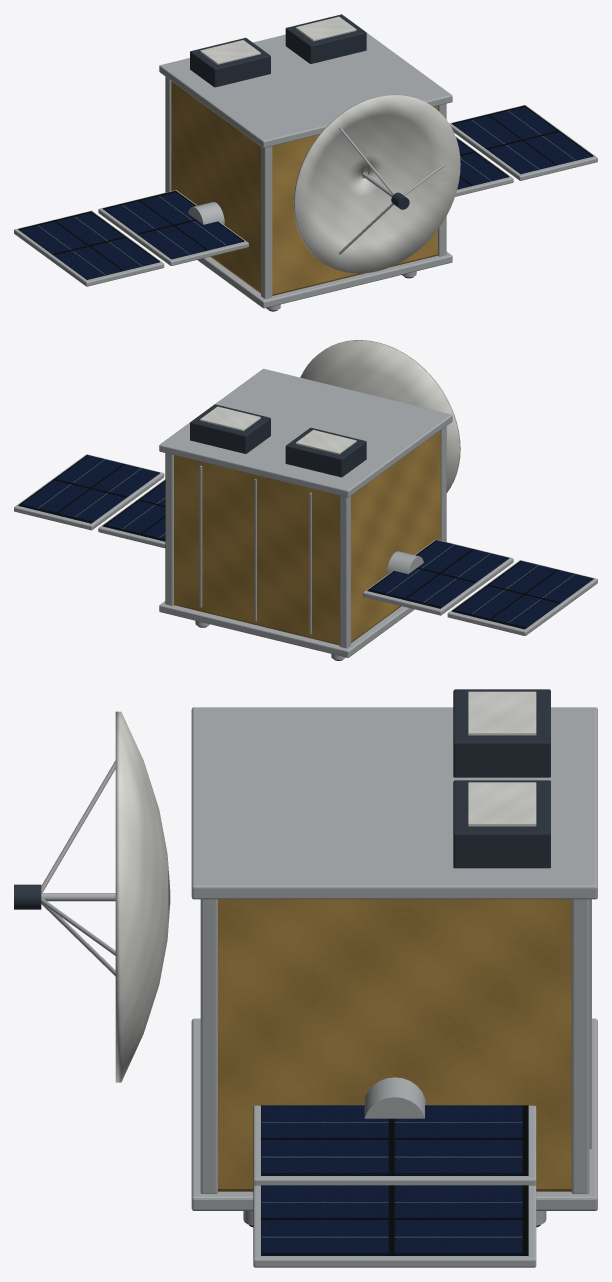
Rendered from interplanetary_probe_base.glb.
3 renders of one model, top to bottom at view 1: azimuth 30°, elevation 25°; view 2: azimuth 150°, elevation 25°; view 3: azimuth 270°, elevation 25°, orthographic. The views are drawn at different scales.
Parts seen in each view (by area): view 1: HighGain_Reflector, Probe_Bus, Probe_Deck.001, Solar_Face.003, Solar_Face.001, Solar_Face, Probe_Deck, Instrument_DeckBox.001, Instrument_DeckBox, Probe_CornerRail, Solar_Frame.003, Solar_Face.002 (+8 smaller); view 2: Probe_Bus, Probe_Deck.001, HighGain_Reflector, Solar_Face.001, Solar_Face.003, Solar_Face, Probe_Deck, Instrument_DeckBox, Instrument_DeckBox.001, Solar_Face.002, Probe_CornerRail.001, Probe_CornerRail.003 (+9 smaller); view 3: Probe_Bus, Probe_Deck.001, Solar_Face.003, Solar_Face.002, HighGain_Reflector, Instrument_DeckBox.001, Instrument_DeckBox, Probe_CornerRail.003, Probe_CornerRail.002, Probe_Deck, Solar_Frame.005, Solar_Frame.004 (+5 smaller).
Part boxes in pixels (x1,y1,x2,y2): HighGain_Reflector: [293, 94, 460, 273]; Probe_Bus: [171, 81, 437, 295]; Probe_Deck.001: [159, 32, 452, 147]; Solar_Face.003: [452, 105, 593, 174]; Solar_Face.001: [18, 211, 159, 279]; Solar_Face: [102, 190, 244, 259]; Probe_Deck: [197, 252, 452, 308]; Instrument_DeckBox.001: [285, 14, 366, 63]; Instrument_DeckBox: [190, 37, 270, 87]; Probe_CornerRail: [261, 146, 272, 298]; Solar_Frame.003: [14, 210, 164, 286]; Solar_Face.002: [456, 137, 509, 189]; Probe_Bus: [174, 430, 440, 645]; Probe_Deck.001: [159, 369, 452, 497]; HighGain_Reflector: [300, 340, 460, 492]; Solar_Face.001: [452, 560, 593, 629]; Solar_Face.003: [18, 455, 159, 523]; Solar_Face: [367, 540, 509, 608]; Probe_Deck: [159, 601, 414, 657]; Instrument_DeckBox: [285, 427, 366, 477]; Instrument_DeckBox.001: [190, 404, 270, 453]; Solar_Face.002: [102, 480, 165, 541]; Probe_CornerRail.001: [339, 495, 350, 648]; Probe_CornerRail.003: [165, 453, 173, 605]; Probe_Bus: [218, 899, 571, 1191]; Probe_Deck.001: [191, 707, 597, 899]; Solar_Face.003: [261, 1185, 528, 1255]; Solar_Face.002: [261, 1105, 528, 1175]; HighGain_Reflector: [115, 711, 170, 1082]; Instrument_DeckBox.001: [453, 780, 550, 868]; Instrument_DeckBox: [453, 689, 550, 777]; Probe_CornerRail.003: [571, 899, 589, 1193]; Probe_CornerRail.002: [200, 899, 217, 1193]; Probe_Deck: [191, 1018, 597, 1210]; Solar_Frame.005: [253, 1185, 536, 1267]; Solar_Frame.004: [253, 1105, 536, 1186].
Bounding box in the file's own units: 5.88 × 2.43 × 2.99.
Materials: 5 (3 with a texture image).
